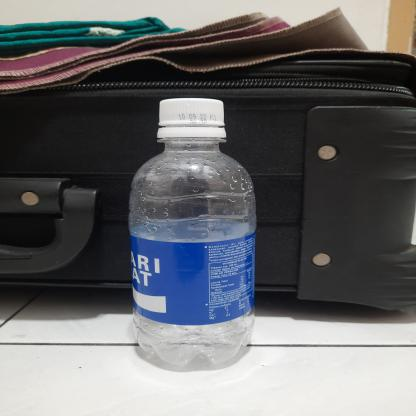bottle: (128, 93, 259, 374)
